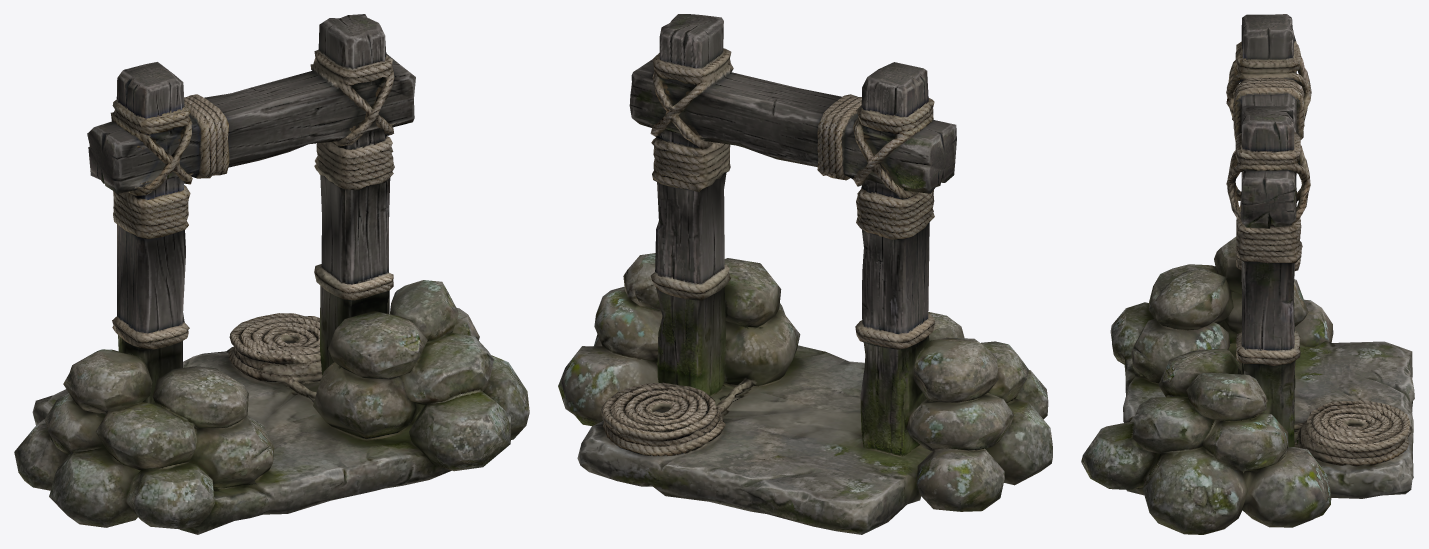
Rendered from BridgeAnchor.gltf.
3 views of the same model, side by side, from view 1: azimuth 30°, elevation 25°; view 2: azimuth 150°, elevation 25°; view 3: azimuth 270°, elevation 25° (orthographic). The views are drawn at different scales.
Parts seen in each view (by area): view 1: lo; view 2: lo; view 3: lo.
Part boxes in pixels (left/top/right/bottom): lo: left=14, top=14, right=529, bottom=534; lo: left=558, top=14, right=1052, bottom=534; lo: left=1081, top=14, right=1414, bottom=534.
Bounding box in the file's own units: 3.08 × 2.6 × 2.12.
Materials: 1 (1 with a texture image).
